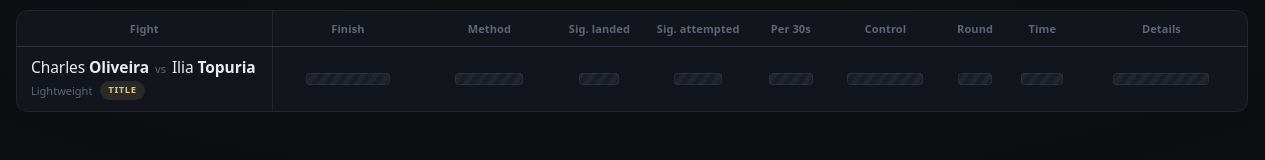
Test: single-cell isolation — one variable per reveal › revealing round shows only the round, not the time
The width and height of the screenshot is (1265, 160).
Click the button named "reveal round —".
click(975, 79)  # box [942,56,1009,102]
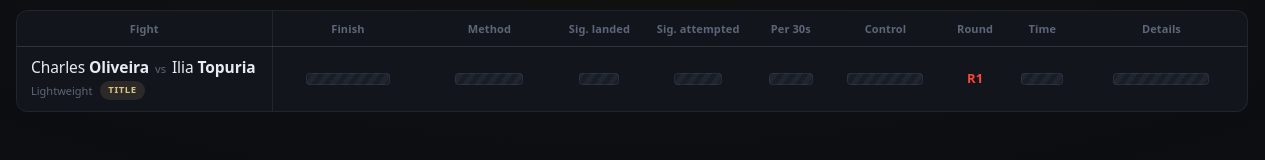
Expected: the text "R1" is shown, [967,69,983,87]
